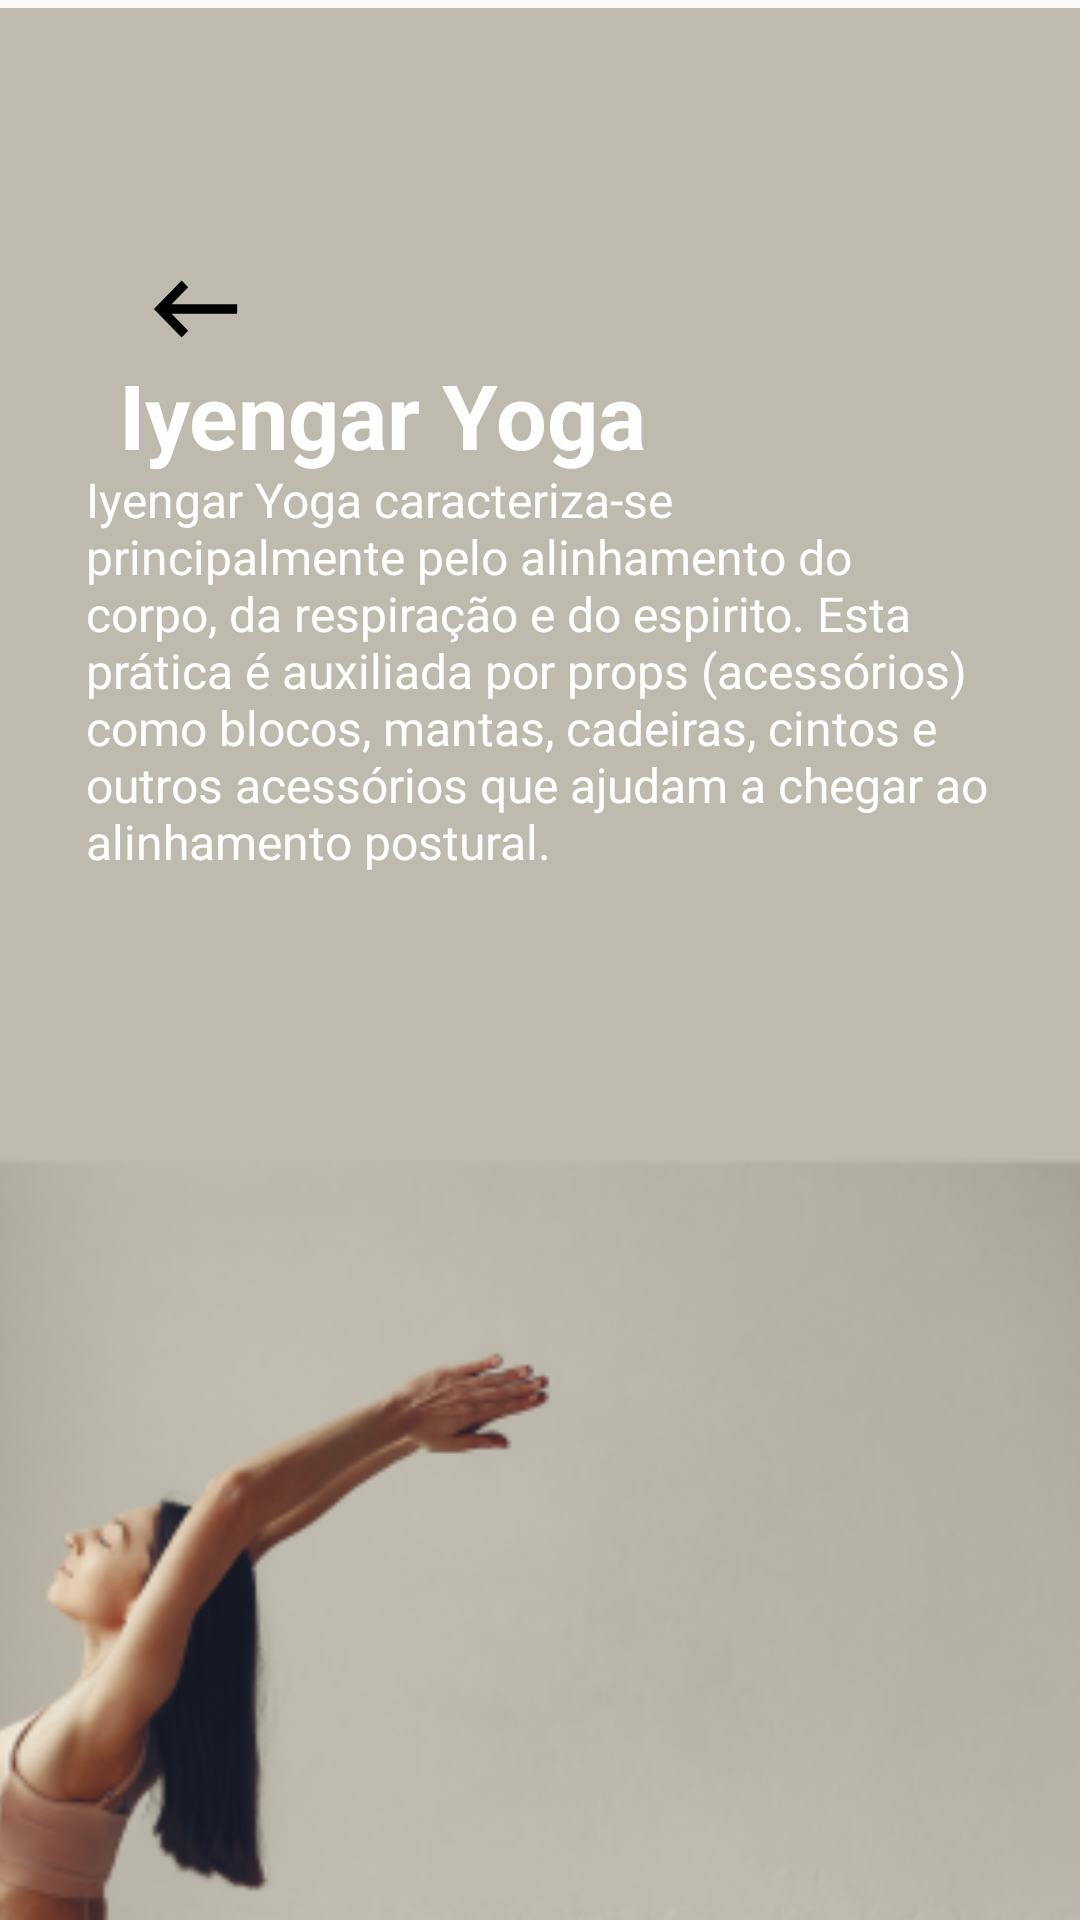

Named icons in this screenshot (1080*1920) and their bounding boxes, (x1, y1, x2, y2):
seta: (154, 280, 237, 338)
